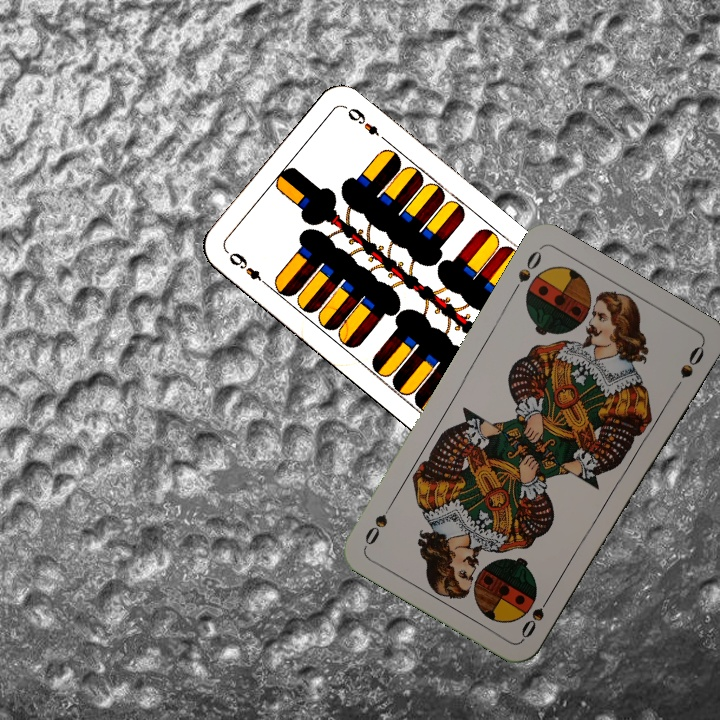E9: (225, 248, 272, 290)
SO: (517, 588, 555, 641), (507, 246, 545, 298)
